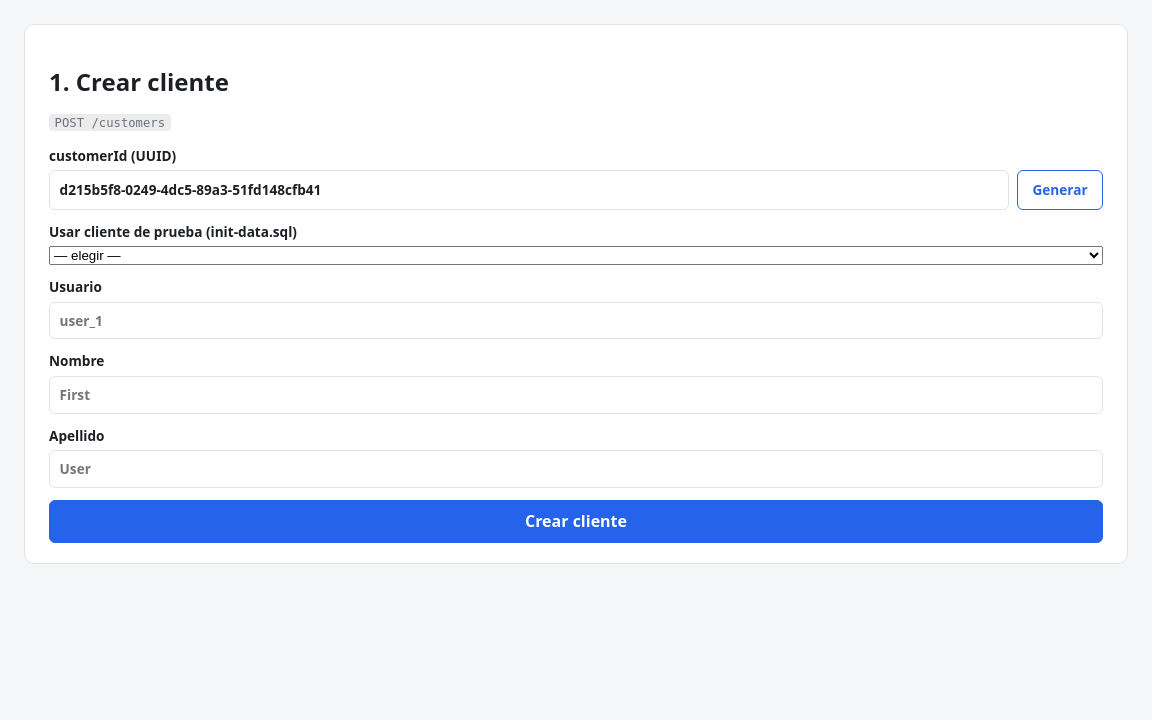
it: CreateCustomerForm › picking a seed customer from the dropdown fills in its customerId
Select "Cliente con poco crédito (100.00)" in the dropdown labelled "Usar cliente de prueba (init-data.sql)" at (576, 256), box [49,246,1103,265]
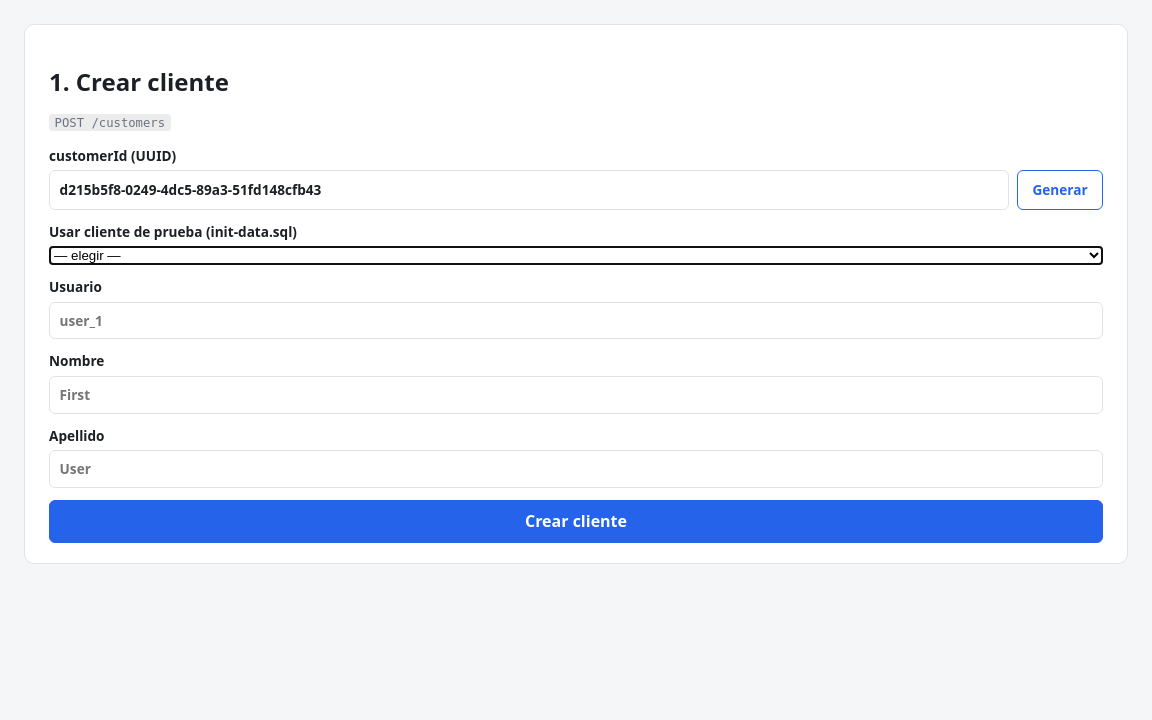
Now the field labelled "customerId (UUID) Generar" holds "d215b5f8-0249-4dc5-89a3-51fd148cfb43", box [49,170,1009,210]
